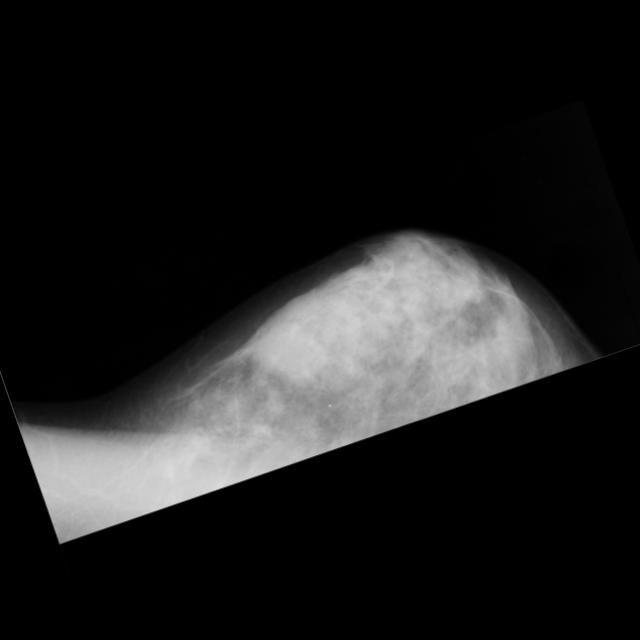CIRC: (0, 77, 310, 416)
